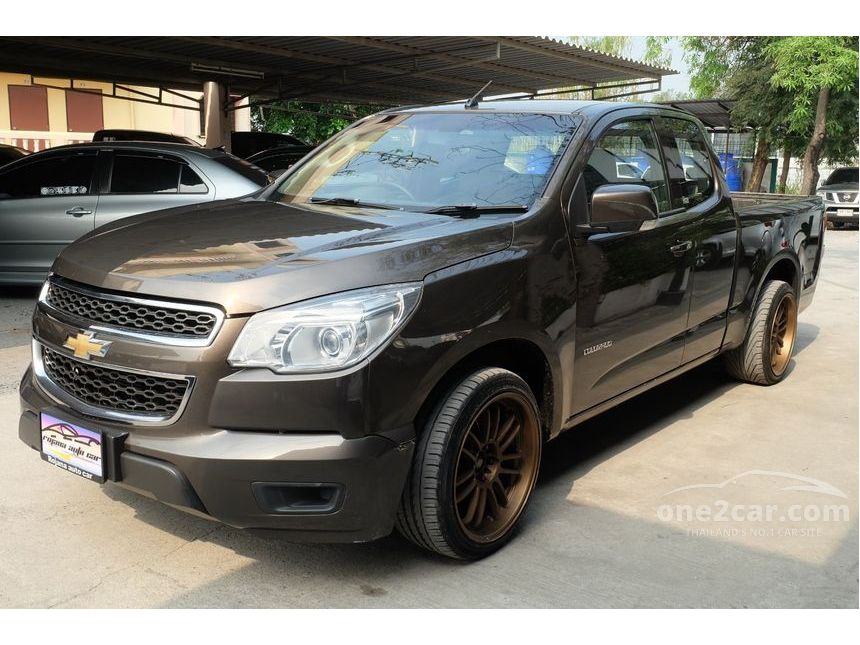pickup: (22, 97, 829, 558)
